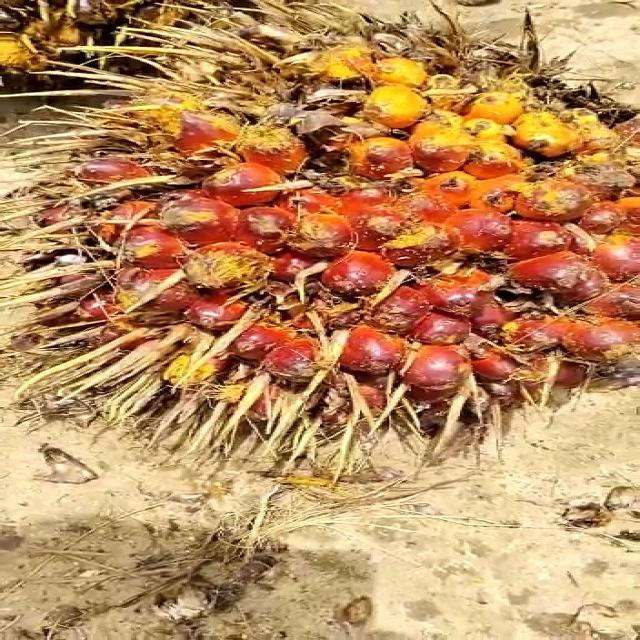palm oil: (56, 8, 640, 466)
